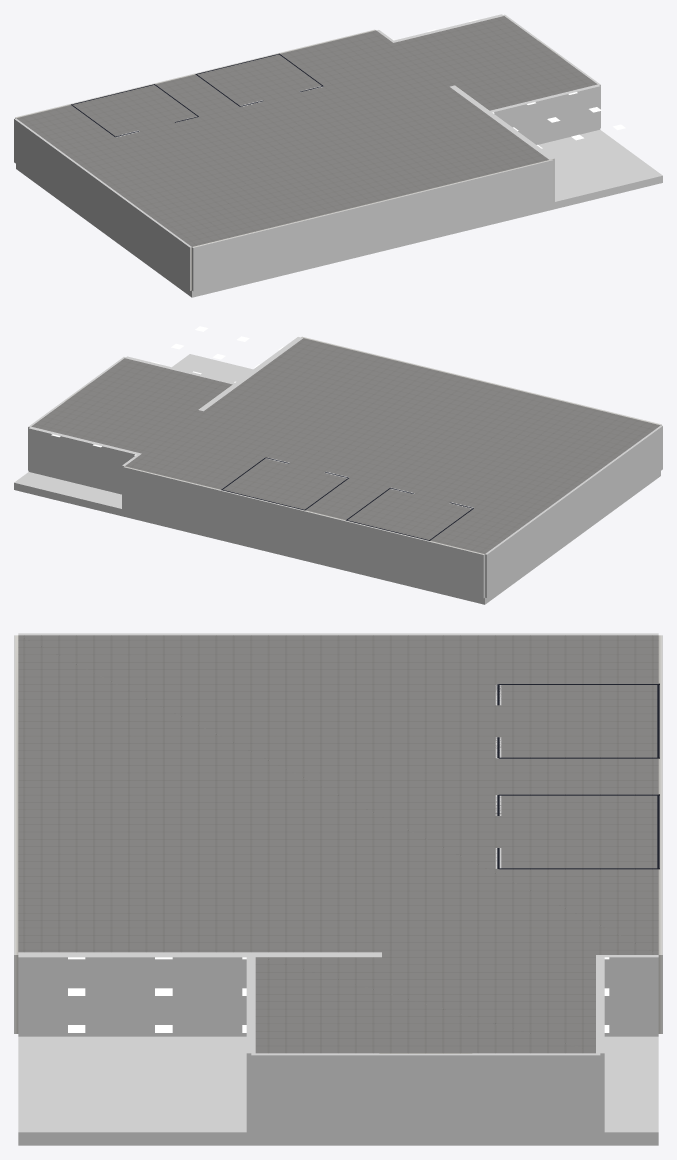
File: zone_05_office.glb
The picture shows the model from 3 angles, top to bottom: view 1: azimuth 30°, elevation 25°; view 2: azimuth 150°, elevation 25°; view 3: azimuth 270°, elevation 25°; orthographic projection. The views are drawn at different scales.
Parts seen in each view (by area): view 1: ENV_vo_phong, COL_vp_tuong_nam, COL_san, COL_vp_tuong_tay, COL_nghi_tuong_nam, COL_vach_luc_giac_nam; view 2: ENV_vo_phong, COL_vp_tuong_bac, COL_vp_tuong_tay, COL_san, COL_nghi_tuong_bac, COL_vach_luc_giac_nam; view 3: ENV_vo_phong, COL_san, COL_vach_luc_giac_nam, COL_tuong_fsa_bac, COL_tuong_fsa_nam, COL_cua_fsa, COL_vach_luc_giac_bac, COL_vp_tuong_tay, COL_nghi_tuong_nam, COL_nghi_tuong_bac, phong_hop_mentor_mesh, phong_hop_manager_mesh (+2 smaller).
Boxes of the visible parts, x1,y1,x2,y2 form: ENV_vo_phong: (15, 16, 625, 290); COL_vp_tuong_nam: (192, 160, 553, 291); COL_san: (16, 130, 662, 297); COL_vp_tuong_tay: (14, 118, 191, 290); COL_nghi_tuong_nam: (487, 84, 600, 144); COL_vach_luc_giac_nam: (450, 85, 554, 201); ENV_vo_phong: (31, 326, 661, 554); COL_vp_tuong_bac: (123, 467, 484, 598); COL_vp_tuong_tay: (485, 425, 662, 597); COL_san: (14, 354, 660, 604); COL_nghi_tuong_bac: (28, 426, 141, 494); COL_vach_luc_giac_nam: (198, 337, 302, 411); ENV_vo_phong: (15, 635, 661, 1053); COL_san: (18, 1036, 658, 1145); COL_vach_luc_giac_nam: (18, 952, 381, 1036); COL_tuong_fsa_bac: (472, 1053, 600, 1134); COL_tuong_fsa_nam: (251, 1053, 379, 1134); COL_cua_fsa: (379, 1054, 472, 1134); COL_vach_luc_giac_bac: (604, 955, 658, 1036); COL_vp_tuong_tay: (18, 633, 658, 635); COL_nghi_tuong_nam: (246, 955, 255, 1132); COL_nghi_tuong_bac: (596, 955, 604, 1132); phong_hop_mentor_mesh: (497, 794, 659, 869); phong_hop_manager_mesh: (497, 683, 659, 758).
Bounding box in the file's own units: 34.3 × 3.5 × 22.3.
Materials: 4 (1 with a texture image).
